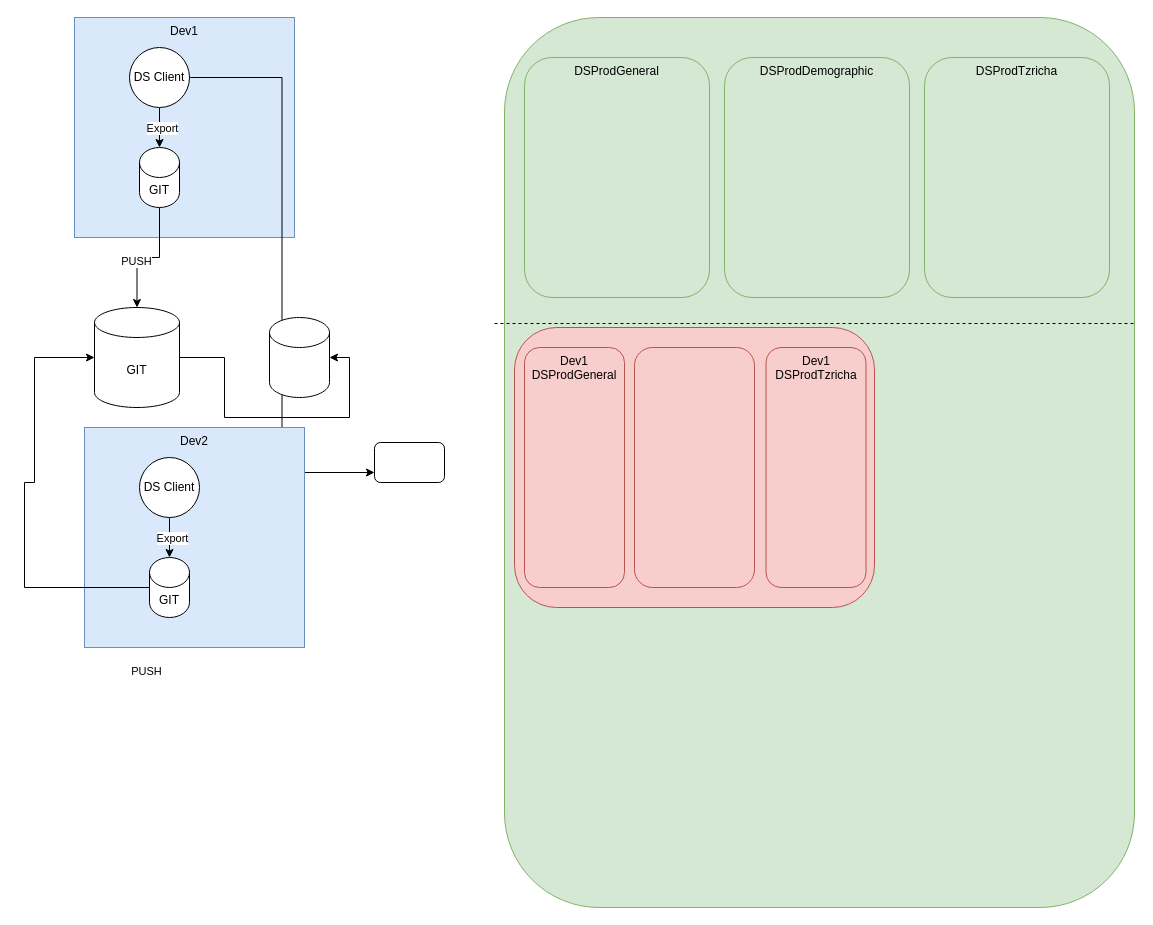
The diagram is 1153 pixels wide and 925 high, and some of its shapes have lost their labels. Here are the shapes that lost their labels. From the top down, the box of each, then its label:
(268, 316, 330, 398): Azure Pipline
(374, 442, 444, 482): DSProdIra
(634, 346, 754, 588): Dev1 DSProdDemographic
